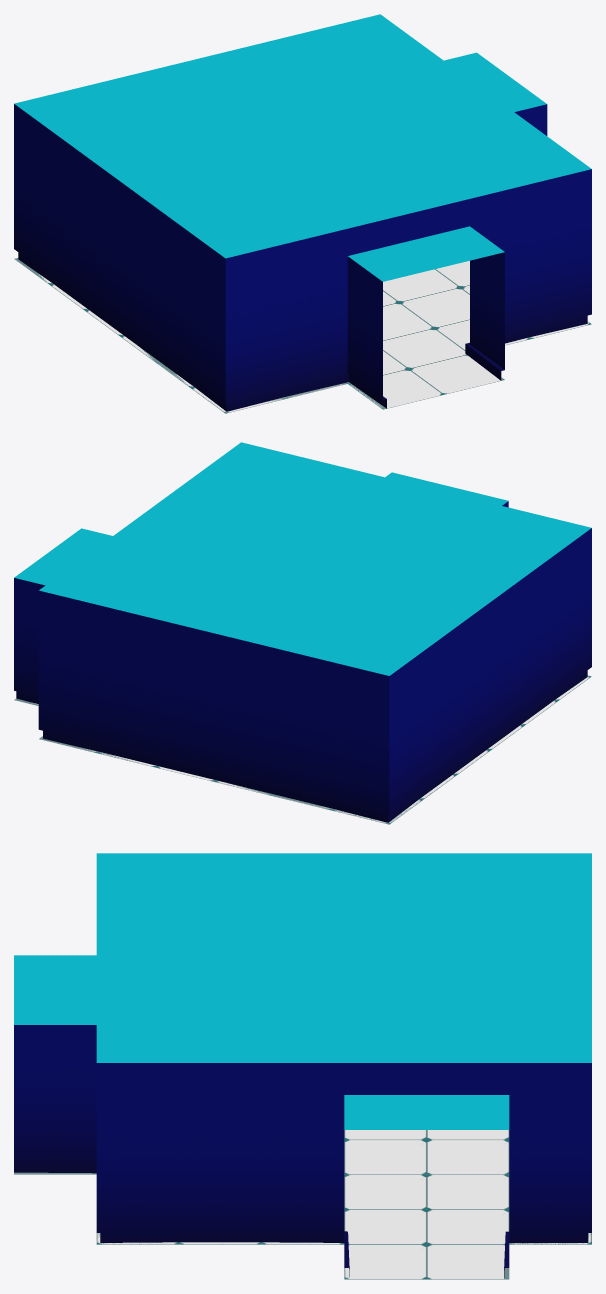
File: SalaGrande1Saida.fbx
3 renders of one model, top to bottom at view 1: azimuth 30°, elevation 25°; view 2: azimuth 150°, elevation 25°; view 3: azimuth 270°, elevation 25°, orthographic. The views are drawn at different scales.
Parts seen in each view (by area): view 1: SalaGrande1Saida; view 2: SalaGrande1Saida; view 3: SalaGrande1Saida.
Boxes of the visible parts, x1,y1,x2,y2 form: SalaGrande1Saida: [14, 14, 591, 413]; SalaGrande1Saida: [14, 442, 591, 824]; SalaGrande1Saida: [14, 853, 591, 1279].
Size of the model in its own units: 700 by 243 by 700.
1 material, 1 textured.
